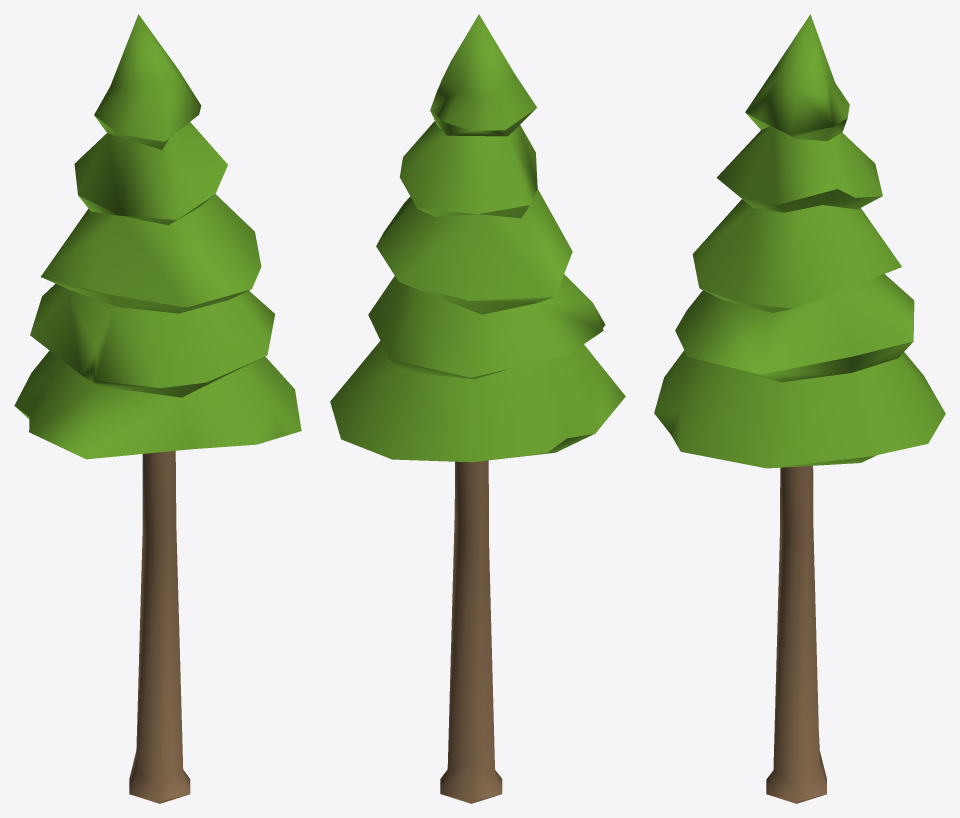
File: Tree_Pine.fbx
3 views of the same model, side by side, from view 1: azimuth 30°, elevation 25°; view 2: azimuth 150°, elevation 25°; view 3: azimuth 270°, elevation 25° (orthographic). The views are drawn at different scales.
Parts seen in each view (by area): view 1: Tree_Pine; view 2: Tree_Pine; view 3: Tree_Pine.
Part boxes in pixels (x1,y1,x2,y2): Tree_Pine: (14,14,301,803); Tree_Pine: (330,14,625,803); Tree_Pine: (654,14,945,803).
Bounding box in the file's own units: 113 × 345 × 117.
